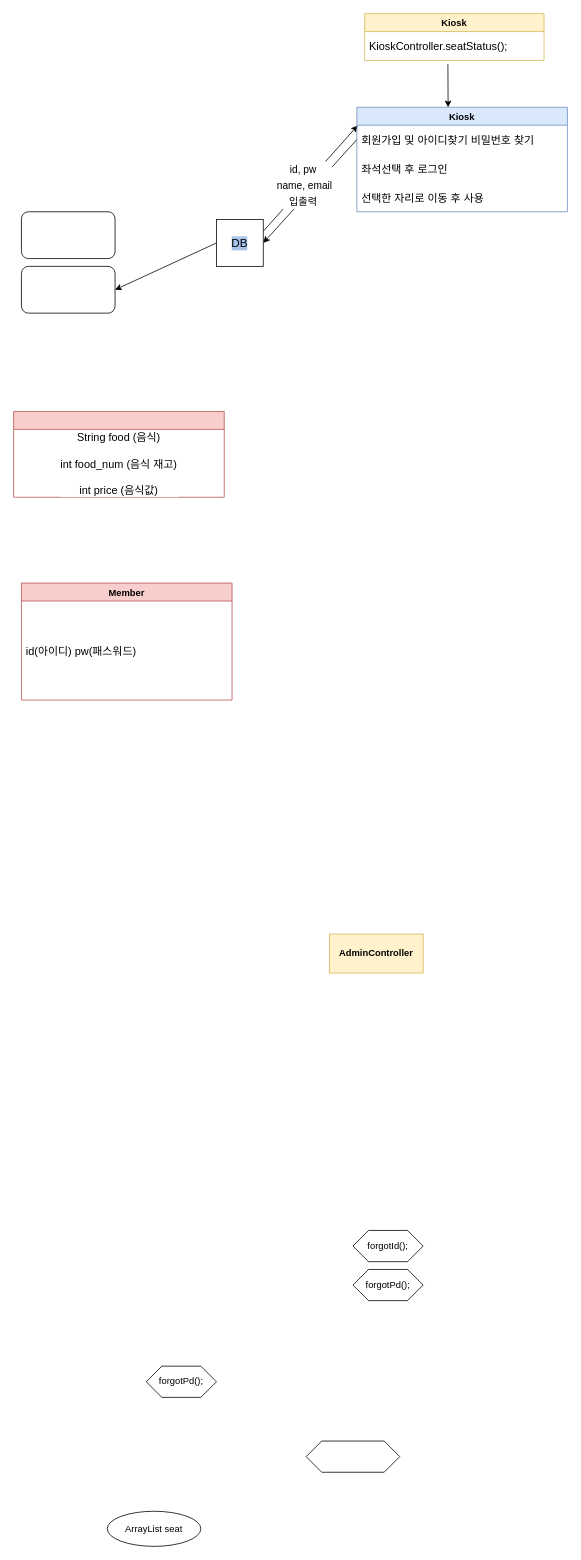
Some shapes in this 581 by 1560 pixel diagram are drawn without their labels. The shapes that lost their labels are listed below. From the top down, each one's box as (x1, y1, x2, y2) in pixels, then its label:
(21, 211, 115, 259): Food.txt
(21, 266, 115, 313): test.txt
(13, 411, 224, 497): Orderlist
(305, 1440, 400, 1472): .seatStatus();
